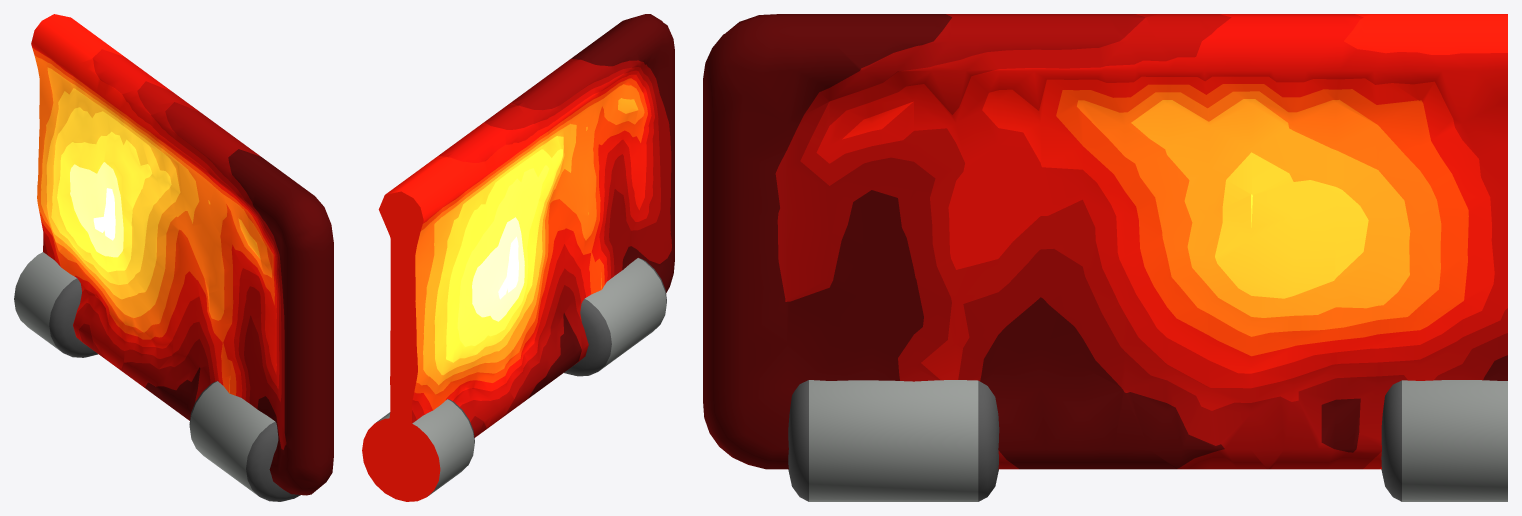
Rendered from fire_flap_r_bottom.glb.
3 renders of one model, left to right at view 1: azimuth 30°, elevation 25°; view 2: azimuth 150°, elevation 25°; view 3: azimuth 270°, elevation 25°, orthographic. The views are drawn at different scales.
Visible parts, largest first — view 1: flap.001, knuckle2.001, knuckle1.001; view 2: flap.001, knuckle1.001, knuckle2.001; view 3: flap.001, knuckle2.001, knuckle1.001.
Part boxes in pixels (box(x1,y1,x2,y2)): flap.001: box(31, 14, 333, 495); knuckle2.001: box(189, 381, 300, 501); knuckle1.001: box(14, 252, 97, 357); flap.001: box(378, 14, 674, 483); knuckle1.001: box(362, 399, 474, 501); knuckle2.001: box(564, 258, 666, 376); flap.001: box(703, 14, 1507, 469); knuckle2.001: box(788, 380, 999, 501); knuckle1.001: box(1381, 380, 1507, 501).
Size of the model in its own units: 3.3 by 12.43 by 19.
